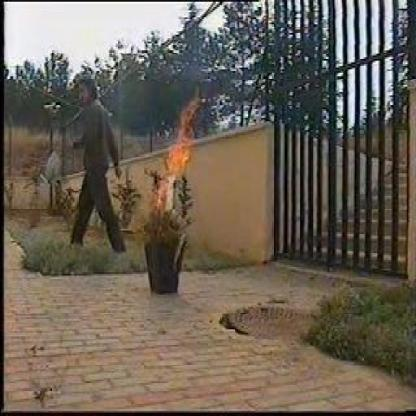foggia-v2-map80-epoch100 - v1 4323: (163, 123, 196, 177)
